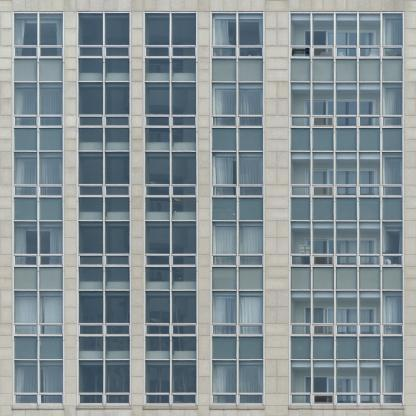Building Outline: (0, 0, 416, 416)
Facade: (0, 0, 416, 416)
Floor: (0, 0, 414, 73), (1, 220, 415, 282), (1, 151, 415, 213), (1, 290, 415, 351), (1, 82, 415, 143), (1, 360, 415, 408)
Floor Slab: (1, 73, 415, 82), (1, 352, 415, 360), (1, 407, 415, 415), (1, 282, 415, 290), (1, 213, 415, 221), (1, 144, 415, 152)
Window: (290, 12, 404, 406), (211, 12, 264, 406), (12, 12, 64, 406), (78, 12, 130, 406), (145, 12, 197, 406)
